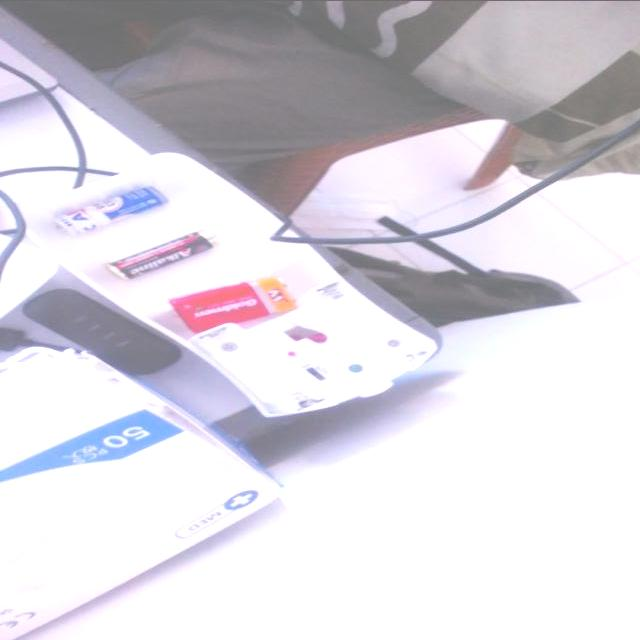9V: (164, 270, 304, 340)
AA: (36, 184, 180, 234), (96, 227, 222, 284)
